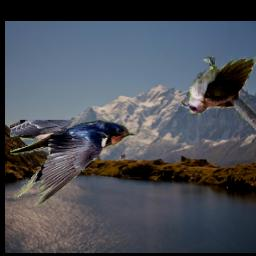Cuckoo: (182, 54, 256, 153)
Swallow: (9, 121, 135, 207)
